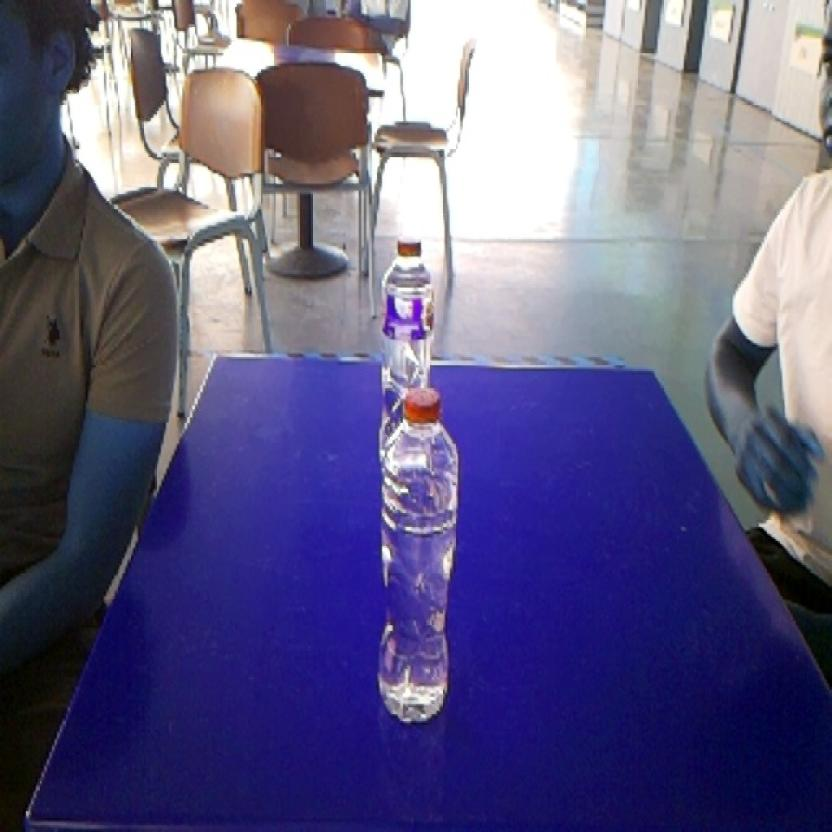good: (374, 224, 444, 380)
no_label: (371, 381, 467, 734)
